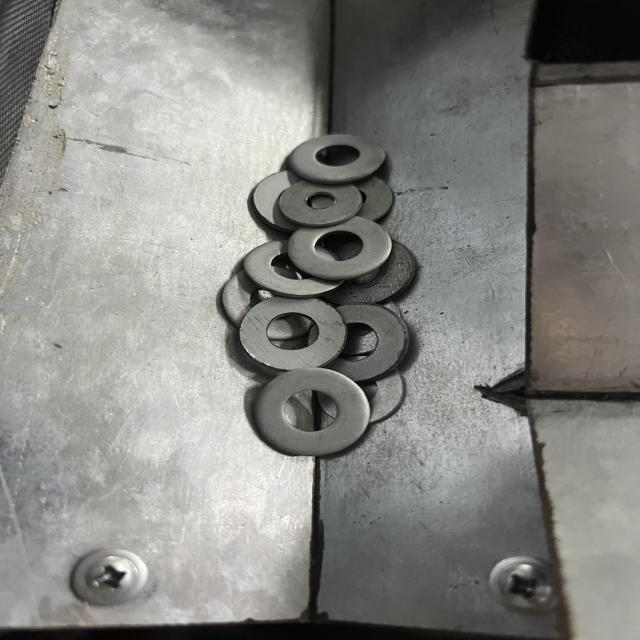washer: (251, 367, 372, 458), (289, 134, 387, 180), (276, 180, 365, 228)
